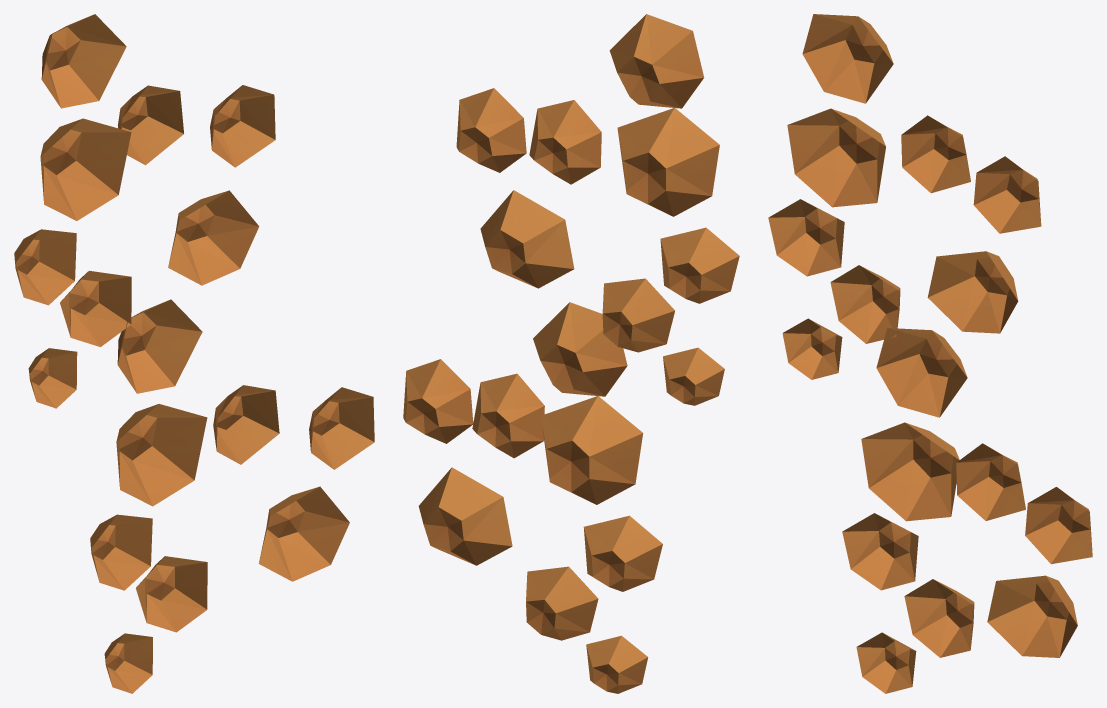
File: Barnacle_01.FBX
3 renders of one model, left to right at view 1: azimuth 30°, elevation 25°; view 2: azimuth 150°, elevation 25°; view 3: azimuth 330°, elevation 25°, orthographic. The views are drawn at different scales.
Parts seen in each view (by area): view 1: Barnacle_01; view 2: Barnacle_01; view 3: Barnacle_01.
Part boxes in pixels (bbox=[...]): Barnacle_01: bbox=[14, 14, 374, 693]; Barnacle_01: bbox=[403, 14, 739, 693]; Barnacle_01: bbox=[768, 14, 1092, 693].
Bounding box in the file's own units: 4.17 × 7.88 × 1.08.
